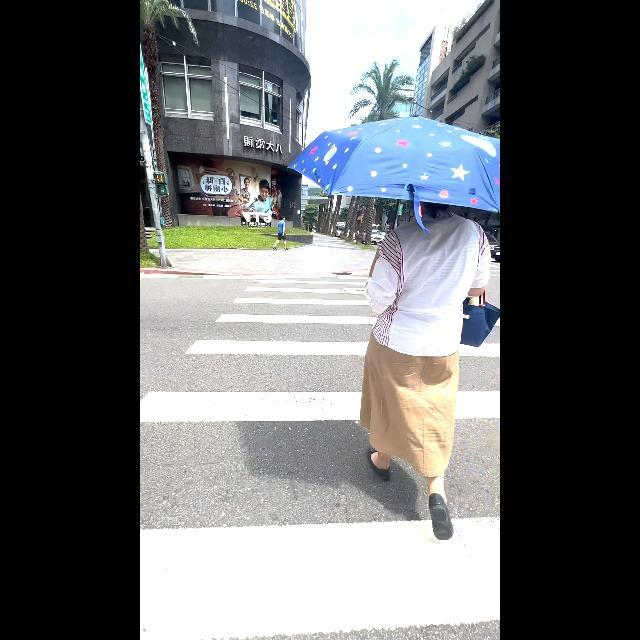sidewalk: (140, 268, 500, 639)
